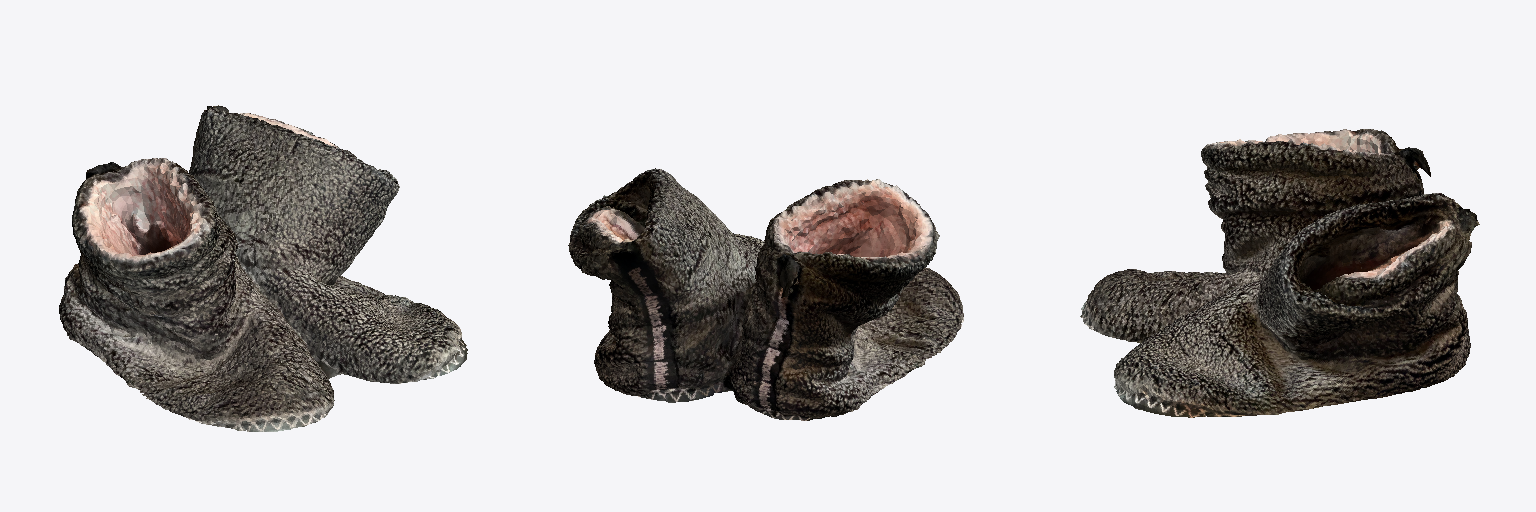
3 renders of one model, left to right at view 1: azimuth 30°, elevation 25°; view 2: azimuth 150°, elevation 25°; view 3: azimuth 270°, elevation 25°, orthographic.
Bounding box in the file's own units: 0.5151 × 0.2594 × 0.5529.
Materials: 1 (1 with a texture image).